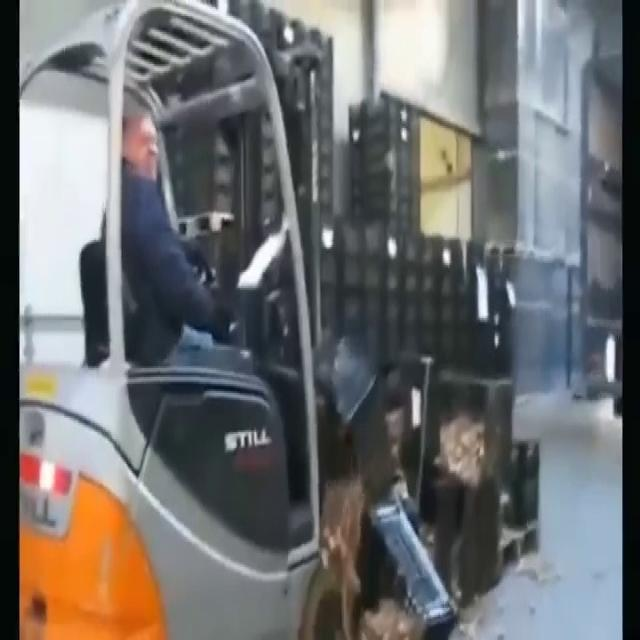forklift: (23, 5, 329, 640)
